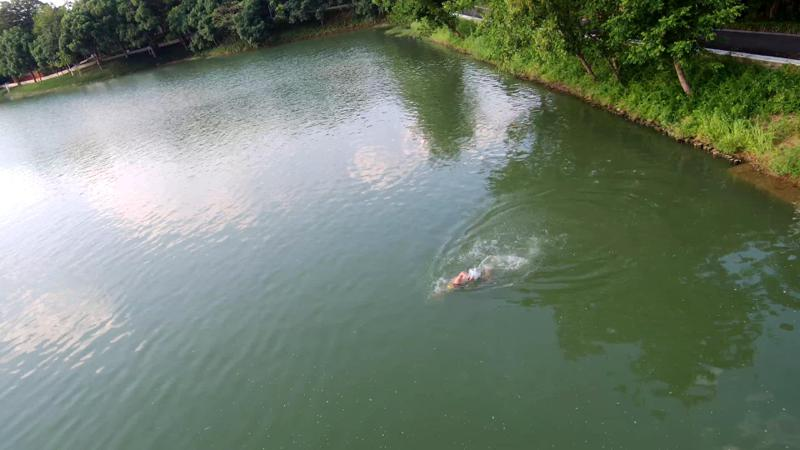swimmers: (432, 263, 494, 299)
